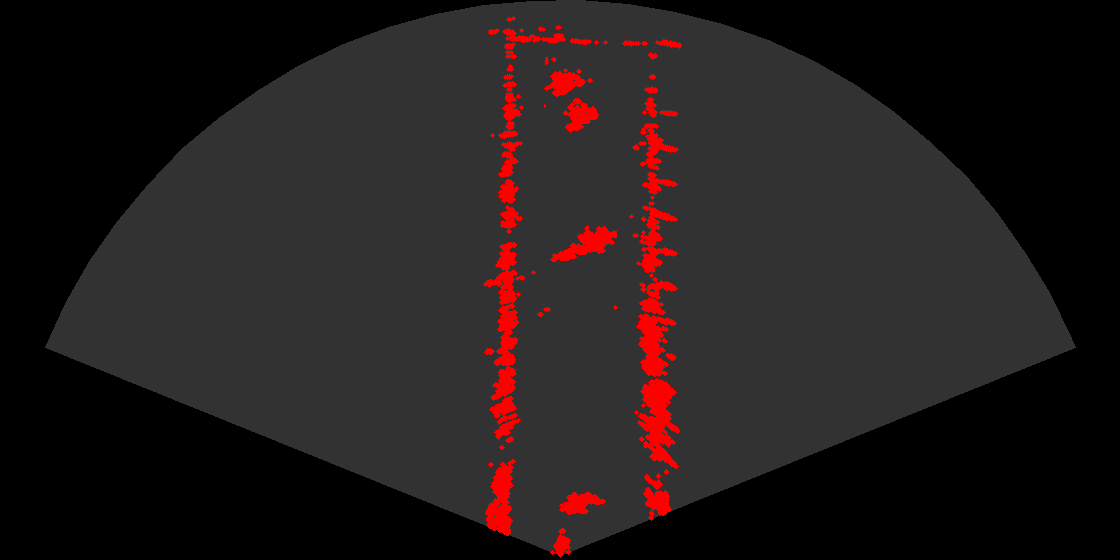AUV: (553, 490, 609, 522)
cage: (544, 57, 607, 141)
frogman: (549, 219, 617, 266)
